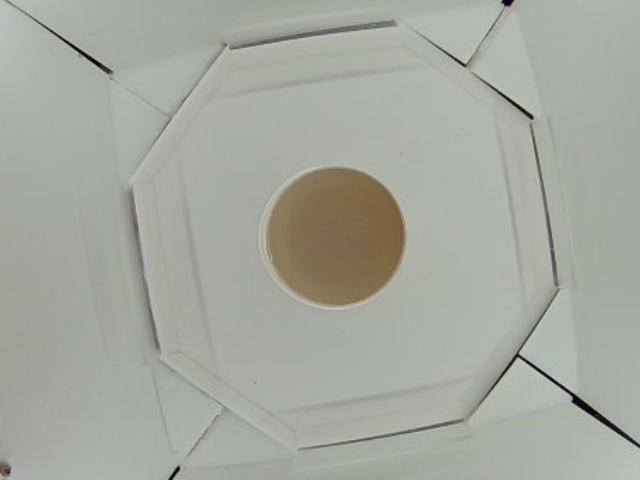Cup: (262, 165, 407, 307)
